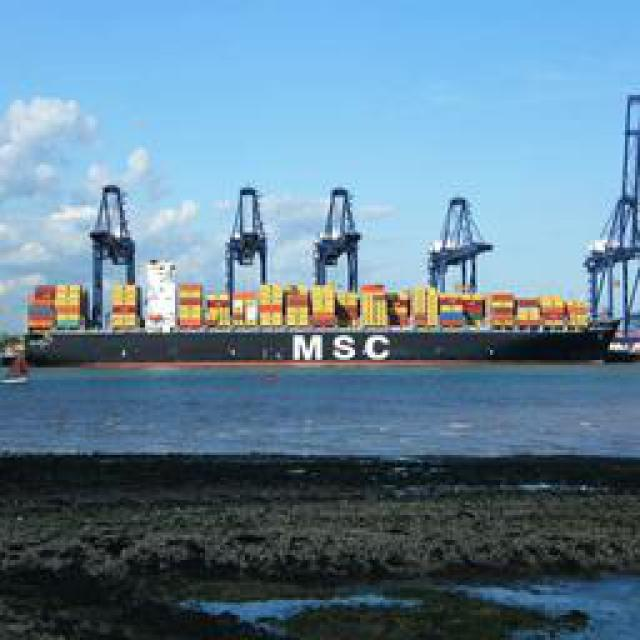Ship: (20, 170, 613, 378)
